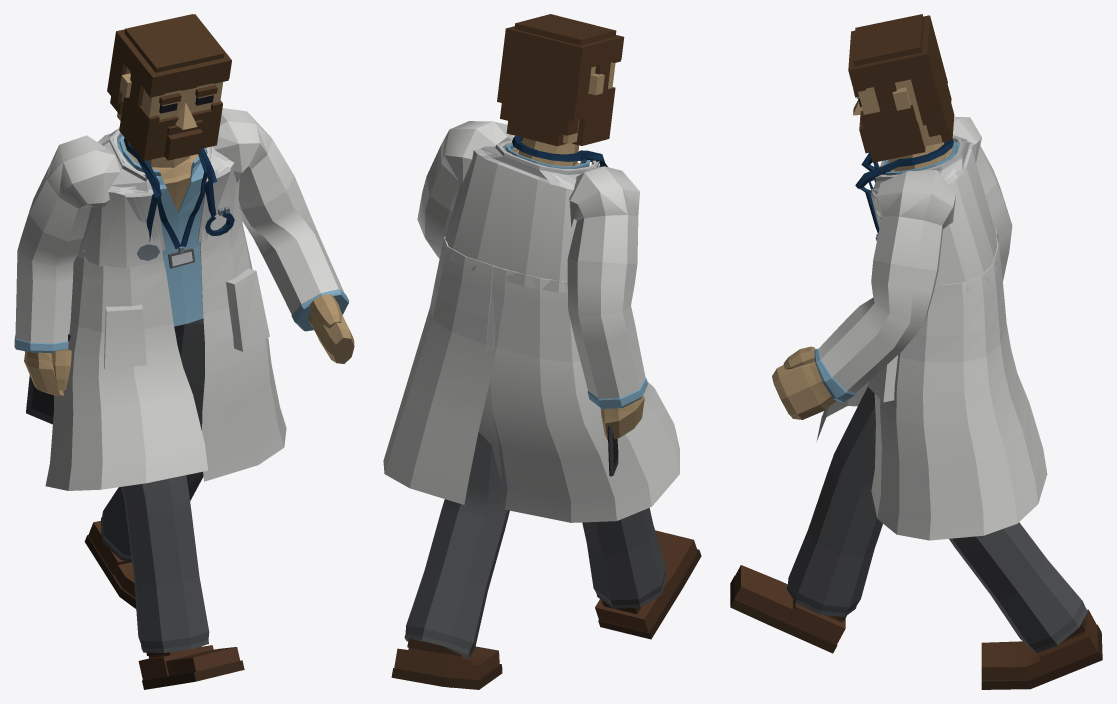
File: doctor-d49de0__walk4.glb
The picture shows the model from 3 angles, left to right: view 1: azimuth 30°, elevation 25°; view 2: azimuth 150°, elevation 25°; view 3: azimuth 270°, elevation 25°; orthographic projection.
Visible parts, largest first — view 1: doctor-d49de0__walk4; view 2: doctor-d49de0__walk4; view 3: doctor-d49de0__walk4.
Boxes of the visible parts, x1=… form: doctor-d49de0__walk4: x1=14, y1=14, x2=354, y2=689; doctor-d49de0__walk4: x1=383, y1=14, x2=701, y2=689; doctor-d49de0__walk4: x1=730, y1=14, x2=1102, y2=689.
Size of the model in its own units: 0.7455 by 1.7 by 0.9128.
